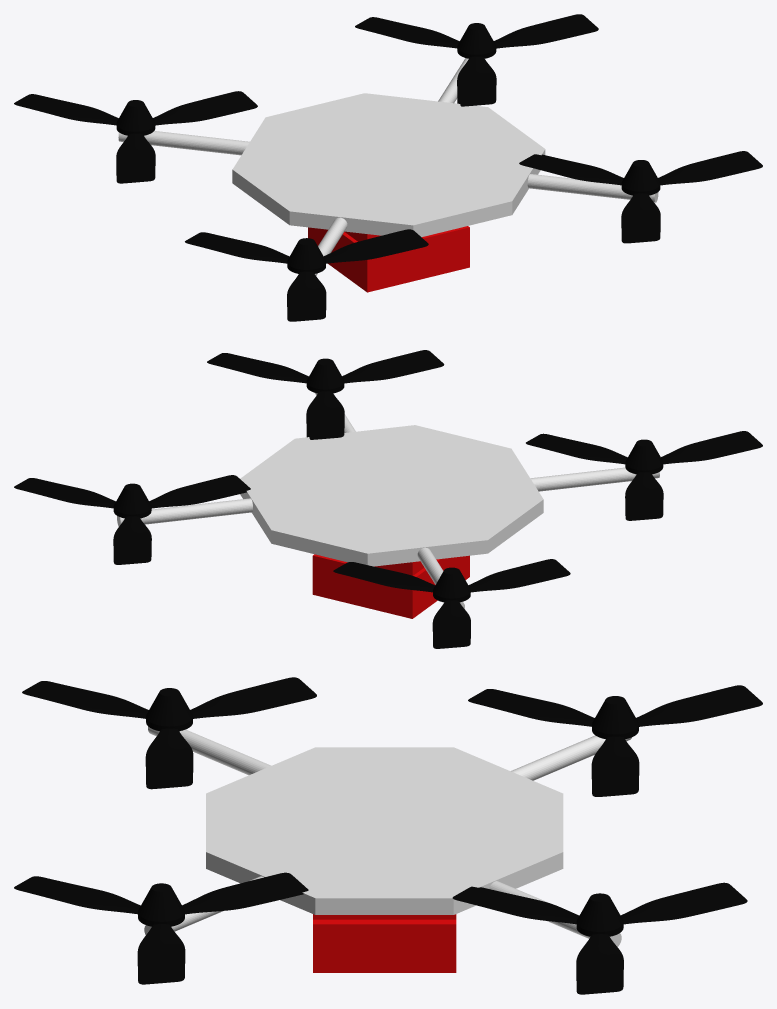
Rendered from DroneR3.glb.
The picture shows the model from 3 angles, top to bottom: view 1: azimuth 30°, elevation 25°; view 2: azimuth 150°, elevation 25°; view 3: azimuth 270°, elevation 25°; orthographic projection. The views are drawn at different scales.
Visible parts, largest first — view 1: Cube.002, Propeller Front Driver.003, Propeller Front Driver.001, Propeller Front Driver, Propeller Front Driver.002, Cube.001, Cylinder.003, Cylinder.001, Cylinder; view 2: Cube.002, Propeller Front Driver, Propeller Front Driver.001, Propeller Front Driver.002, Propeller Front Driver.003, Cube.001, Cylinder.002, Cylinder, Cylinder.003; view 3: Cube.002, Propeller Front Driver.002, Propeller Front Driver, Propeller Front Driver.001, Propeller Front Driver.003, Cube.001, Cylinder.003, Cylinder, Cube, Cylinder.002.
Part boxes in pixels (left/top/right/bottom): Cube.002: left=232, top=93, right=545, bottom=237; Propeller Front Driver.003: left=14, top=91, right=257, bottom=183; Propeller Front Driver.001: left=519, top=151, right=762, bottom=243; Propeller Front Driver: left=185, top=229, right=428, bottom=321; Propeller Front Driver.002: left=355, top=14, right=598, bottom=106; Cube.001: left=308, top=226, right=469, bottom=292; Cylinder.003: left=118, top=131, right=249, bottom=155; Cylinder.001: left=527, top=174, right=658, bottom=202; Cylinder: left=315, top=217, right=347, bottom=275; Cube.002: left=240, top=425, right=543, bottom=566; Propeller Front Driver: left=526, top=431, right=762, bottom=520; Propeller Front Driver.001: left=207, top=350, right=444, bottom=439; Propeller Front Driver.002: left=14, top=475, right=250, bottom=564; Propeller Front Driver.003: left=333, top=559, right=570, bottom=648; Cube.001: left=312, top=554, right=469, bottom=618; Cylinder.002: left=117, top=498, right=252, bottom=526; Cylinder: left=530, top=467, right=659, bottom=491; Cylinder.003: left=417, top=547, right=464, bottom=608; Cube.002: left=206, top=747, right=563, bottom=914; Propeller Front Driver.002: left=452, top=882, right=747, bottom=994; Propeller Front Driver: left=22, top=677, right=316, bottom=789; Propeller Front Driver.001: left=14, top=872, right=308, bottom=984; Propeller Front Driver.003: left=468, top=685, right=762, bottom=796; Cube.001: left=313, top=919, right=456, bottom=972; Cylinder.003: left=511, top=735, right=631, bottom=780; Cylinder: left=148, top=726, right=271, bottom=775; Cube: left=313, top=914, right=456, bottom=919; Cylinder.002: left=489, top=881, right=621, bottom=946.
Size of the model in its own units: 0.4052 by 0.0899 by 0.4082.
